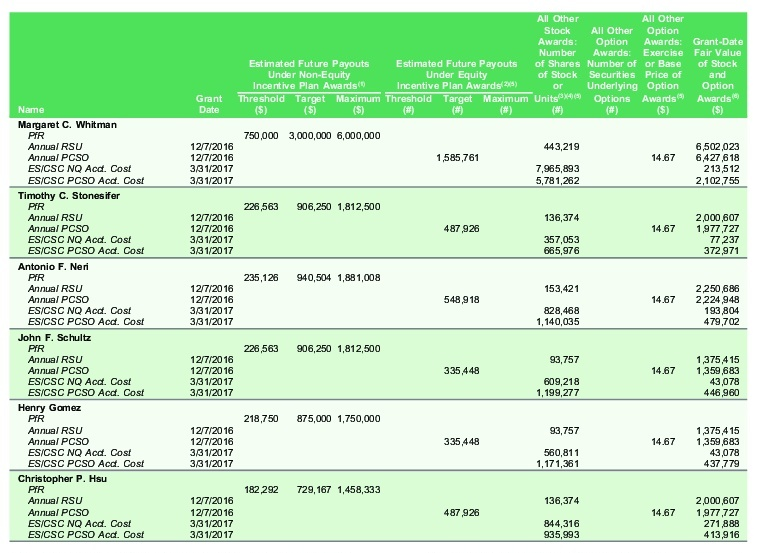table: (0, 0, 760, 553)
